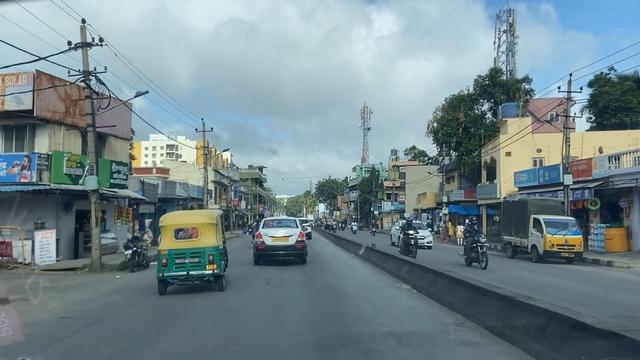LMV: (160, 214, 229, 292), (254, 214, 308, 265), (118, 230, 148, 277)
